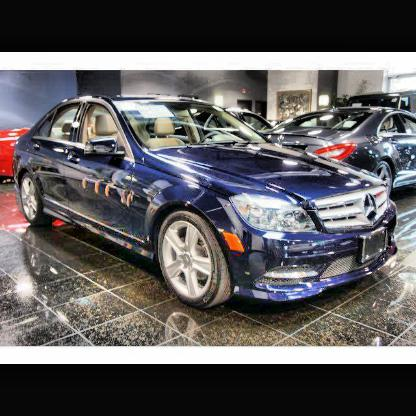Mercedes-Benz C-Class Sedan 2012: (14, 96, 398, 319)
